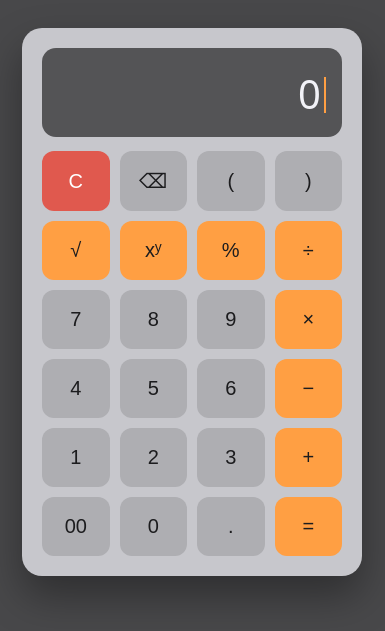
it: Calculator › shows a live preview as soon as the first pair is typed, without pressing another operator
Click the button "9": click(231, 320) top-left (197, 290), bottom-right (264, 349)
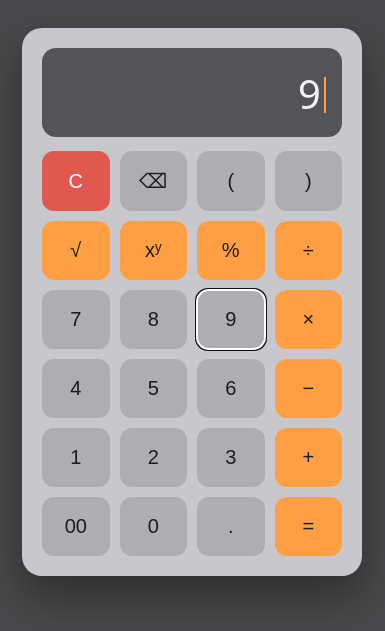
Click the button named "Multiply": click(308, 320) top-left (274, 290), bottom-right (342, 349)
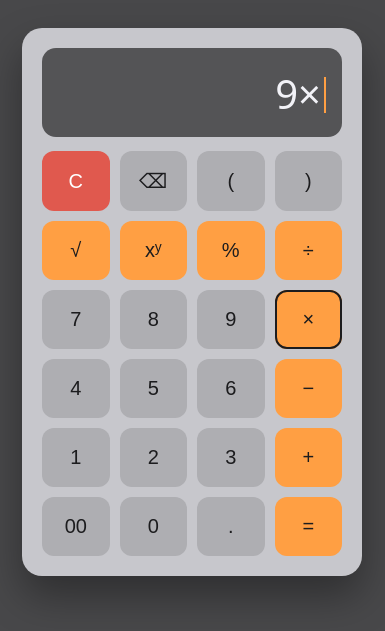
Click the button "9": click(231, 320) top-left (197, 290), bottom-right (264, 349)
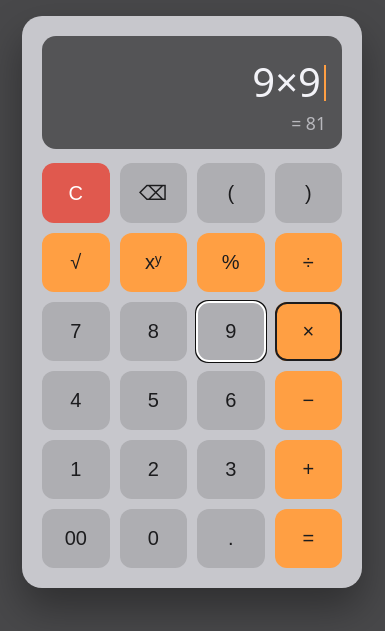
Result: the message with test id "display-expression" reads "9×9" at top-left (252, 54), bottom-right (321, 109)
Result: the text with test id "display-preview" reads "= 81" at top-left (291, 111), bottom-right (326, 135)
